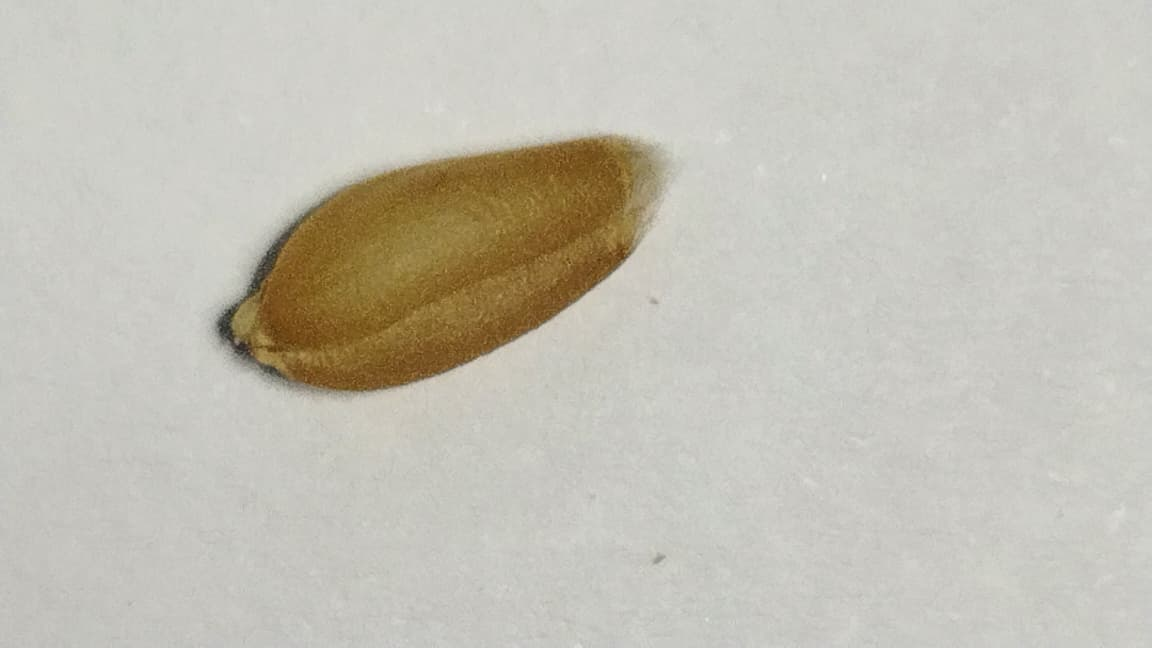healthy: (231, 135, 665, 389)
